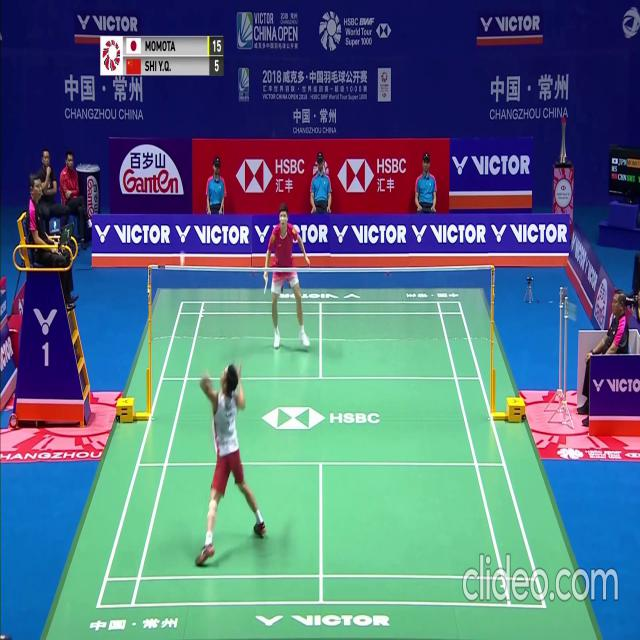Shuttlecock: (179, 258, 184, 266)
